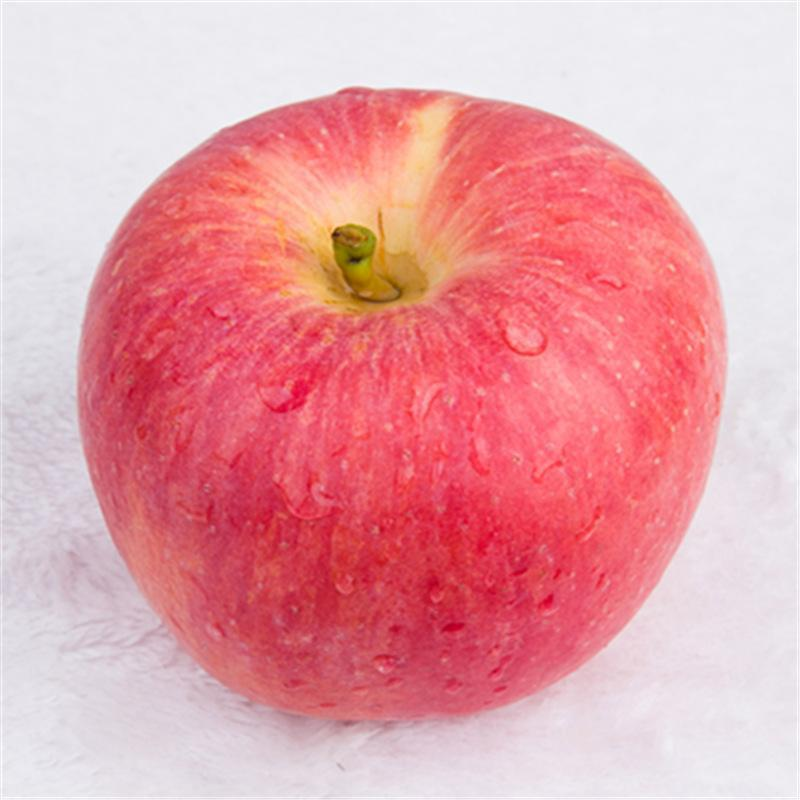apple: (78, 83, 727, 725)
